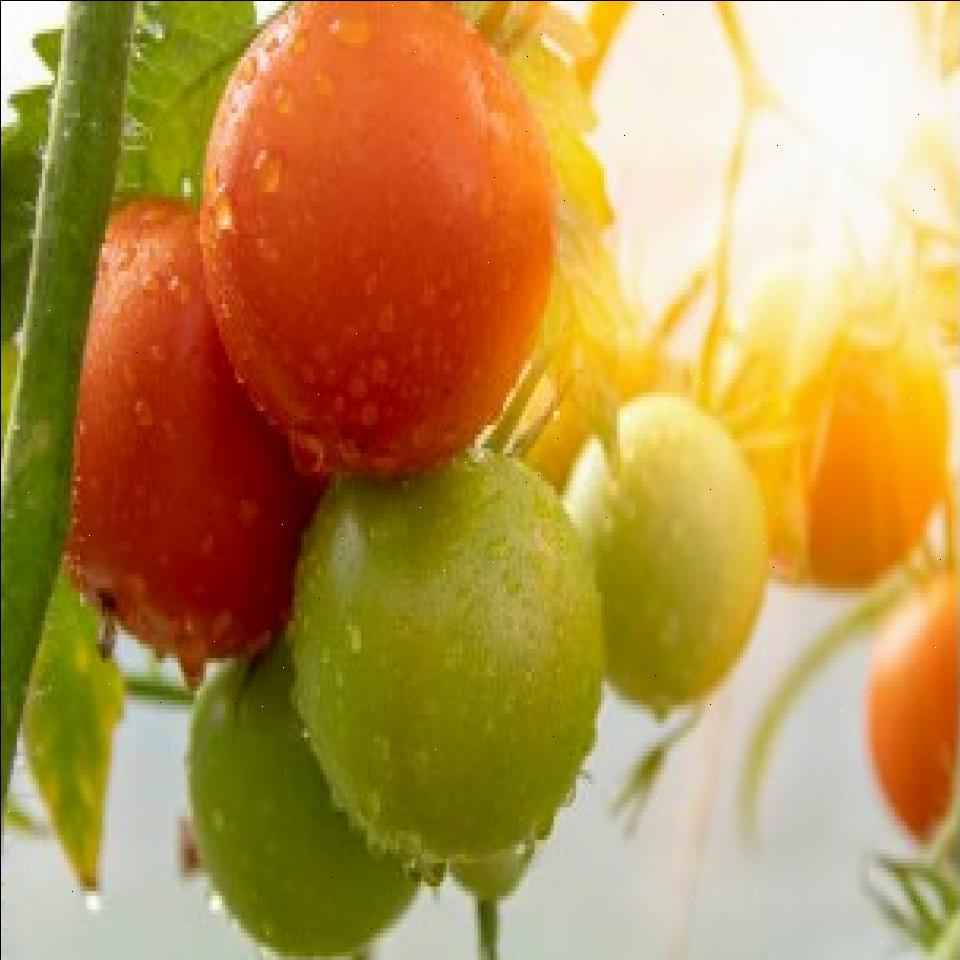Healthy: (202, 0, 531, 452), (63, 170, 292, 680)
